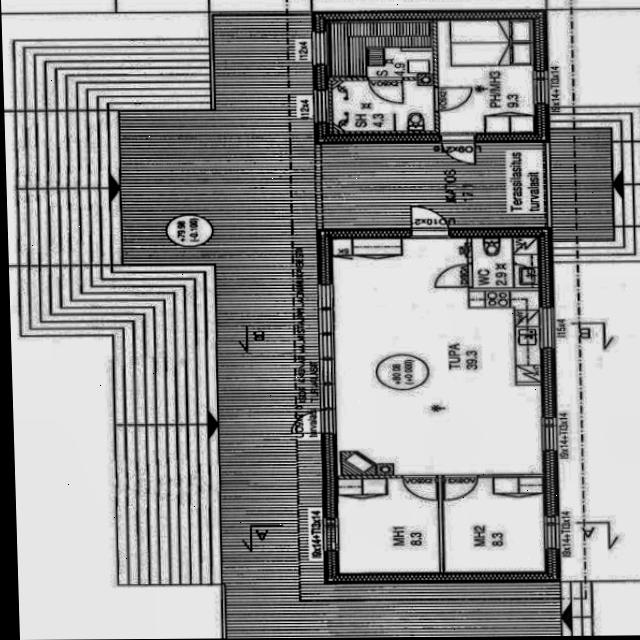room: (437, 19, 532, 133), (337, 478, 438, 574), (441, 478, 543, 572), (325, 19, 432, 78), (331, 81, 433, 131), (471, 238, 537, 288)
